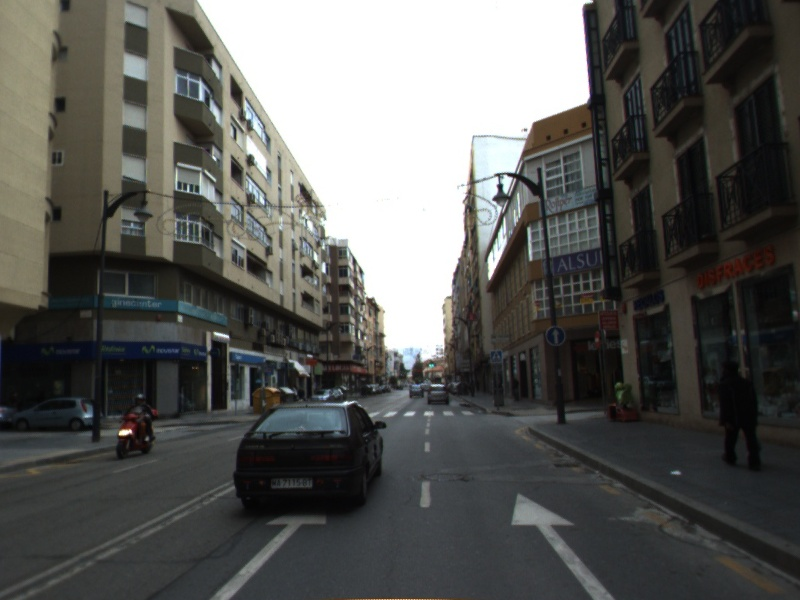STRAIGHT: (203, 504, 332, 600), (508, 489, 619, 600)
